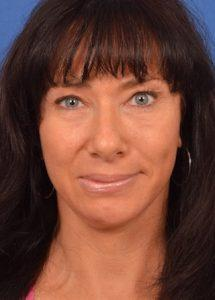strokeEyeWeak: (47, 69, 170, 119)
strokeMouthWeak: (75, 168, 145, 205)
